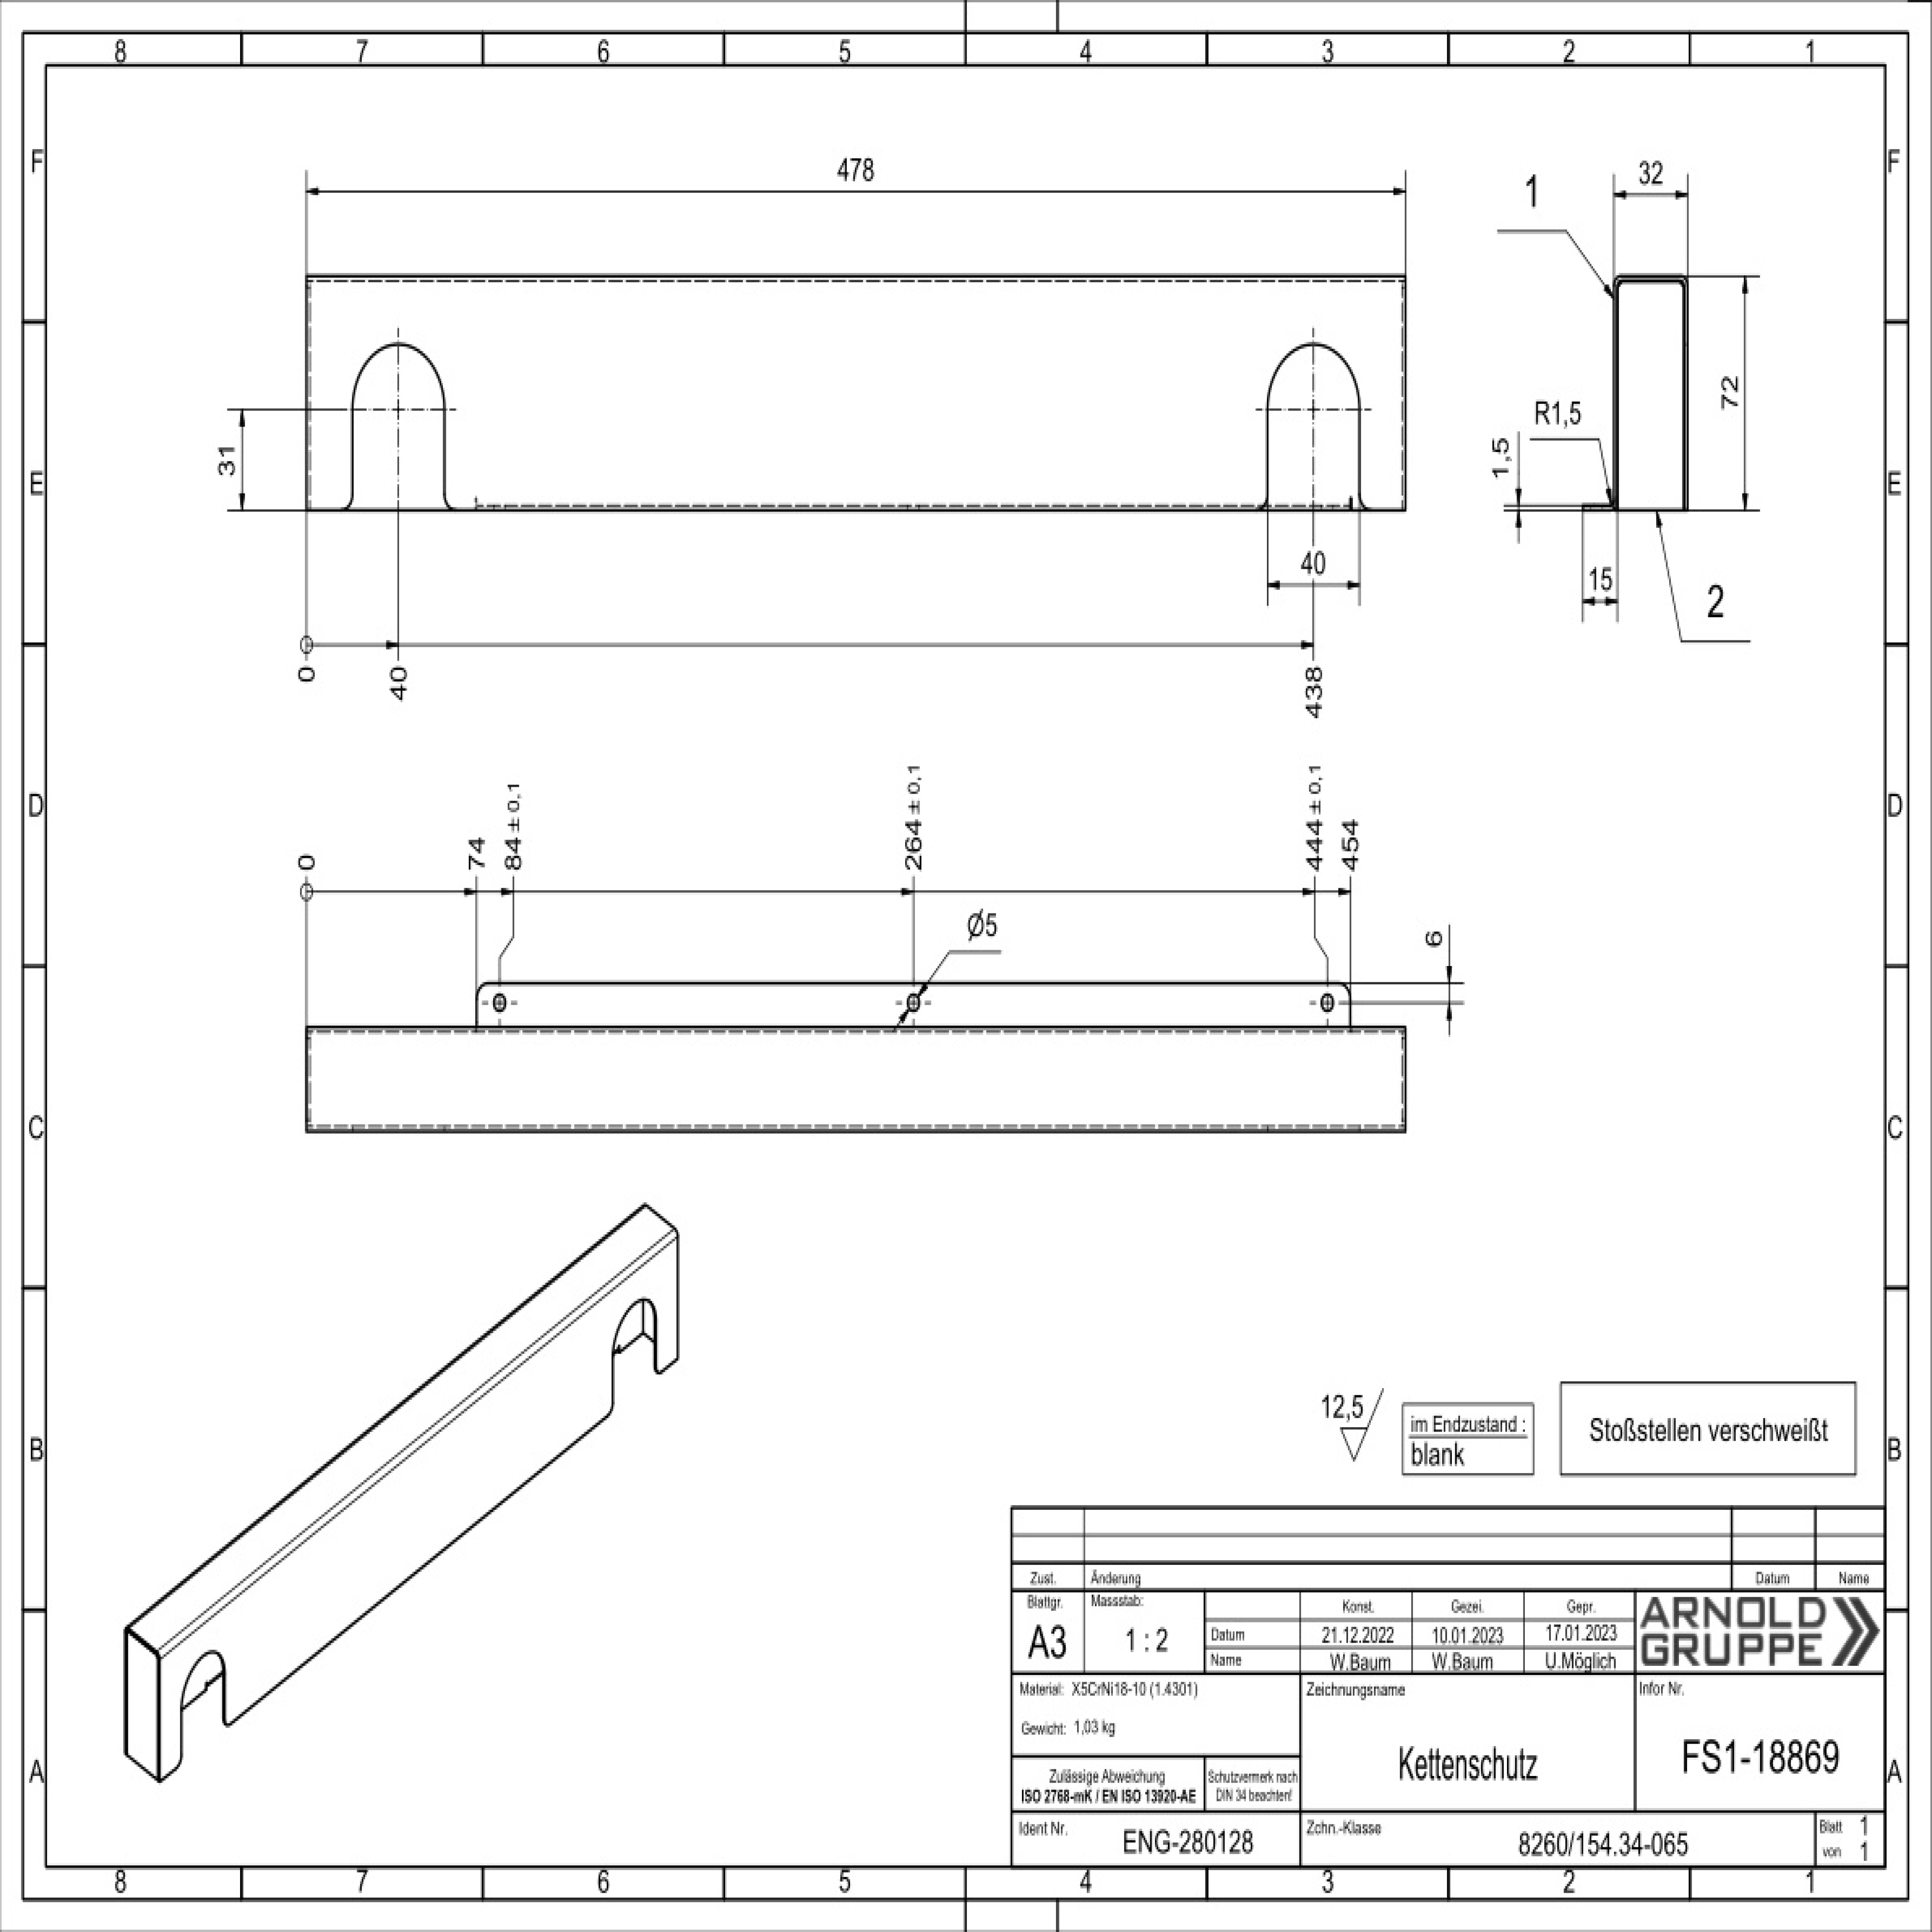InnerContour: (1313, 991, 1341, 1017), (901, 991, 925, 1014), (492, 989, 510, 1019)
Notch: (336, 334, 458, 533), (1253, 338, 1373, 518)
